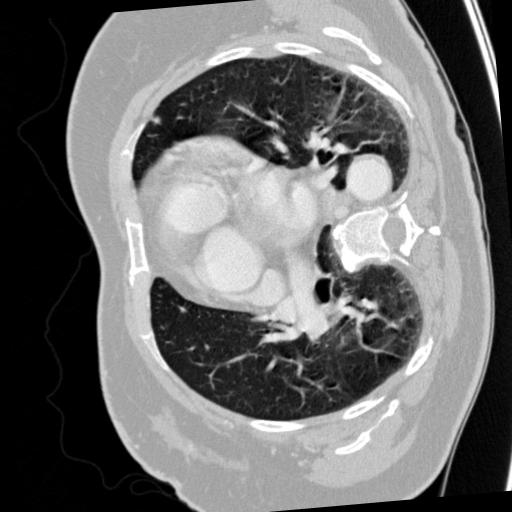nodule: (151, 115, 165, 129)
